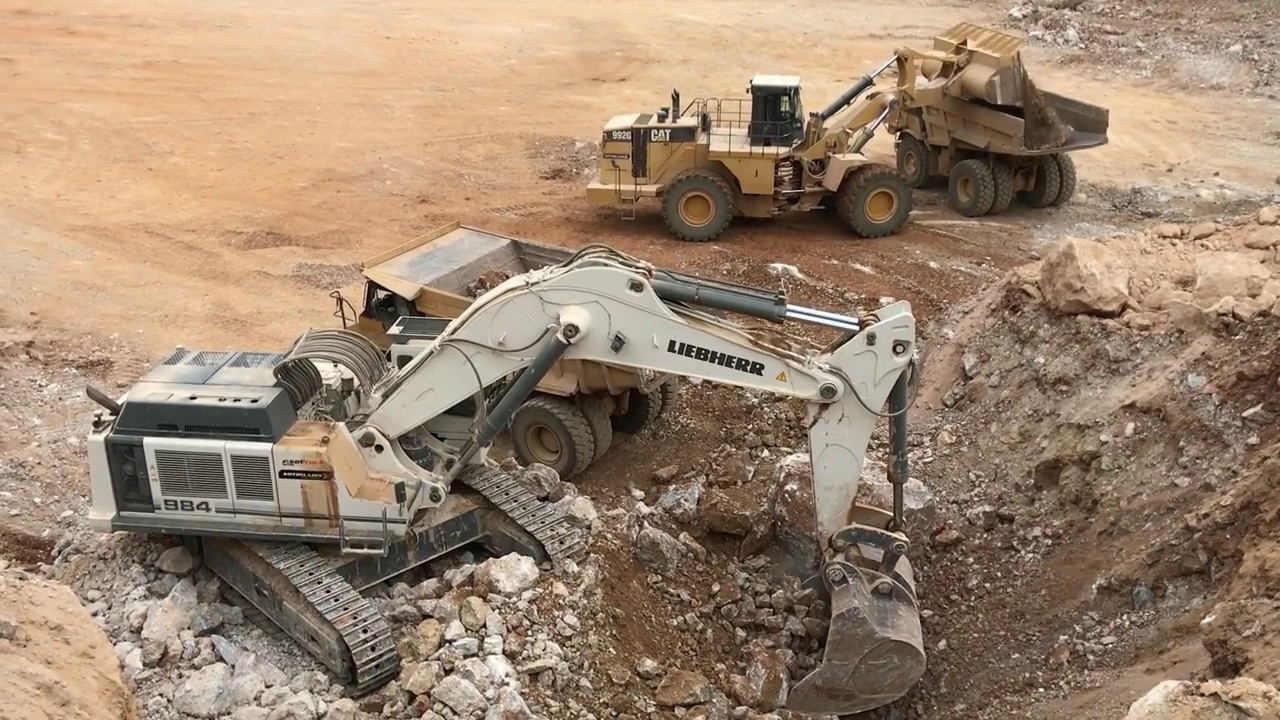dumper: (330, 218, 670, 478), (896, 61, 1112, 215)
excavator: (86, 251, 930, 720)
wheel loader: (585, 20, 1030, 243)
